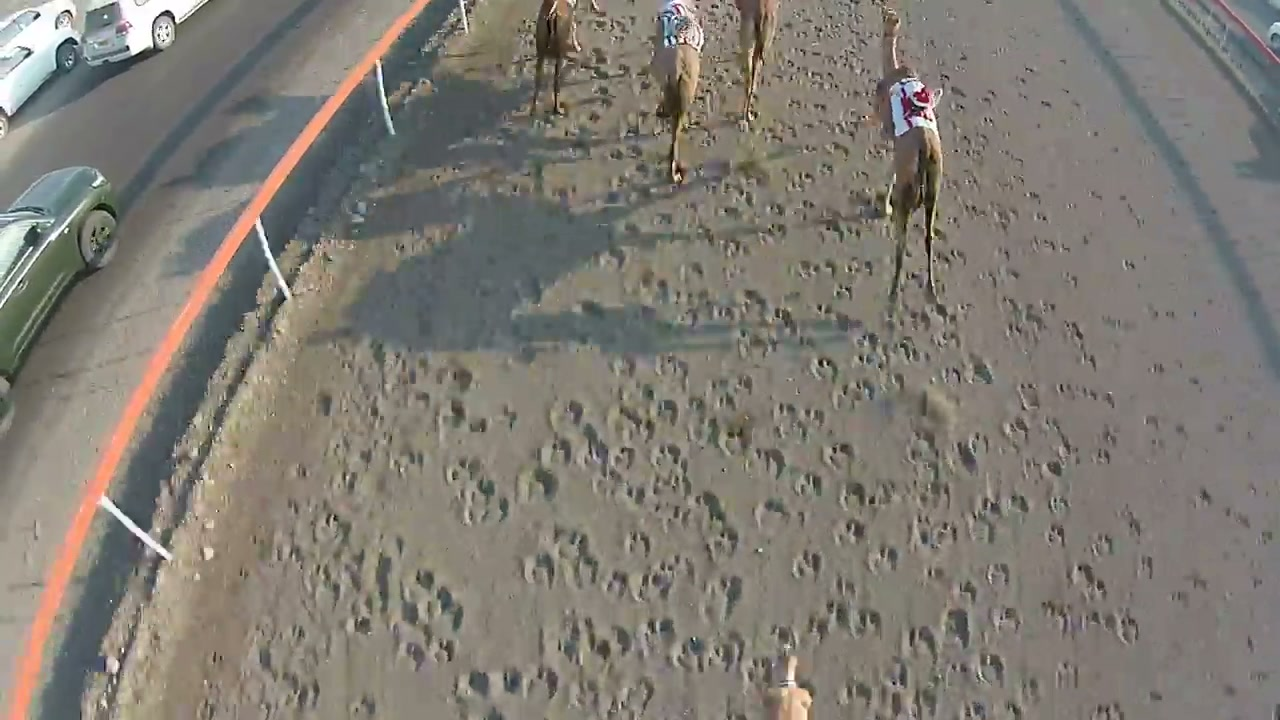animal_footprint: (137, 0, 1279, 719)
